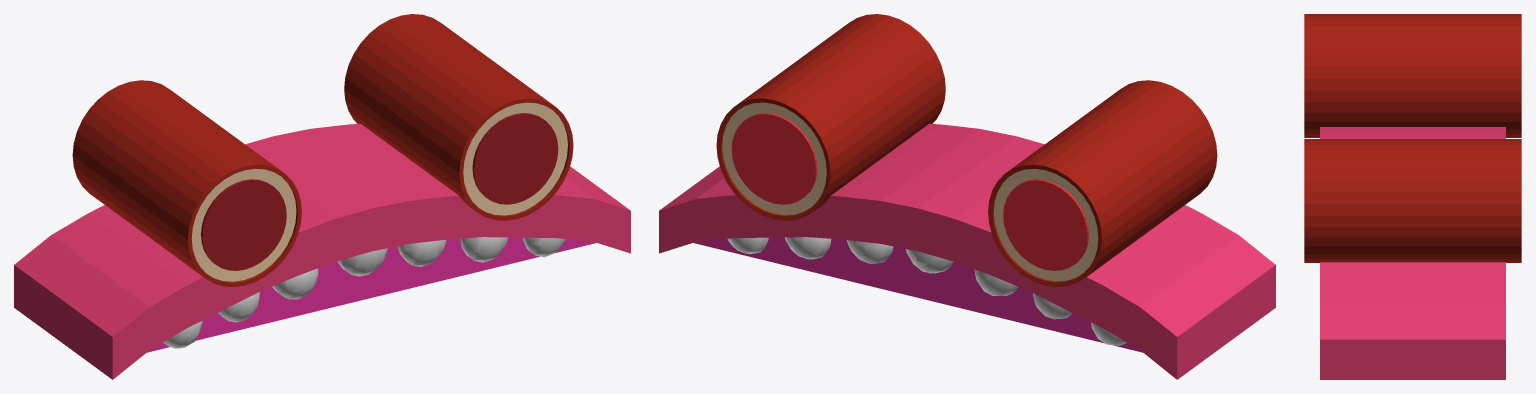
Rendered from UpDoor.fbx.
3 views of the same model, side by side, from view 1: azimuth 30°, elevation 25°; view 2: azimuth 150°, elevation 25°; view 3: azimuth 270°, elevation 25° (orthographic). The views are drawn at different scales.
Visible parts, largest first — view 1: Cube, Cylinder, Cylinder.005, Cube.001, Cylinder.006, Cylinder.001, Mball, Cylinder.002, Cylinder.007; view 2: Cube, Cylinder, Cylinder.005, Cube.001, Cylinder.008, Cylinder.003, Mball, Cylinder.004, Cylinder.009; view 3: Cylinder.005, Cylinder, Cube.
Boxes of the visible parts, box(x1,y1,x2,y2) form: Cube: box(14, 123, 630, 379); Cylinder: box(72, 80, 301, 286); Cylinder.005: box(344, 14, 573, 220); Cube.001: box(147, 237, 596, 352); Cylinder.006: box(472, 113, 558, 204); Cylinder.001: box(201, 179, 286, 270); Mball: box(163, 237, 566, 348); Cylinder.002: box(191, 168, 296, 281); Cylinder.007: box(463, 102, 567, 215); Cube: box(659, 123, 1275, 379); Cylinder: box(988, 80, 1217, 286); Cylinder.005: box(716, 14, 945, 220); Cube.001: box(693, 237, 1142, 352); Cylinder.008: box(731, 113, 817, 204); Cylinder.003: box(1003, 179, 1088, 270); Mball: box(727, 237, 1126, 345); Cylinder.004: box(993, 169, 1098, 281); Cylinder.009: box(722, 102, 826, 215); Cylinder.005: box(1304, 139, 1521, 262); Cylinder: box(1304, 14, 1521, 137); Cube: box(1320, 127, 1505, 379).
Size of the model in its own units: 1382 by 483 by 533.
